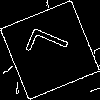L: (25, 25, 78, 69)
